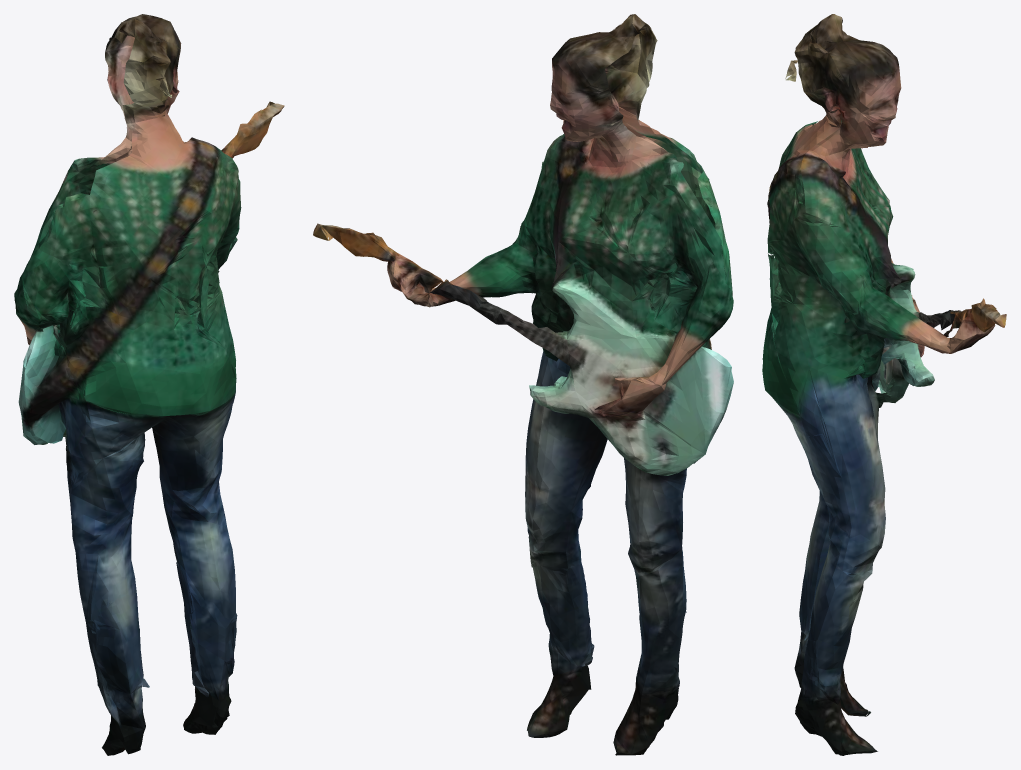
3 views of the same model, side by side, from view 1: azimuth 30°, elevation 25°; view 2: azimuth 150°, elevation 25°; view 3: azimuth 270°, elevation 25° (orthographic). The views are drawn at different scales.
Visible parts, largest first — view 1: dec_0007; view 2: dec_0007; view 3: dec_0007.
Boxes of the visible parts, left/top/right/bottom form: dec_0007: left=14, top=14, right=284, bottom=755; dec_0007: left=313, top=14, right=733, bottom=755; dec_0007: left=762, top=14, right=1006, bottom=755.
Size of the model in its own units: 0.838 by 1.73 by 0.543.
Materials: 1 (1 with a texture image).
